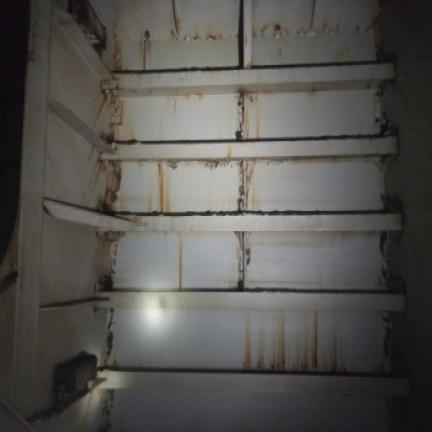besi_tidak_karat: (12, 0, 52, 414), (44, 199, 402, 232), (101, 64, 394, 97), (101, 369, 409, 397), (101, 137, 397, 162), (96, 290, 405, 312)
karat: (101, 163, 121, 211), (99, 231, 125, 245)
